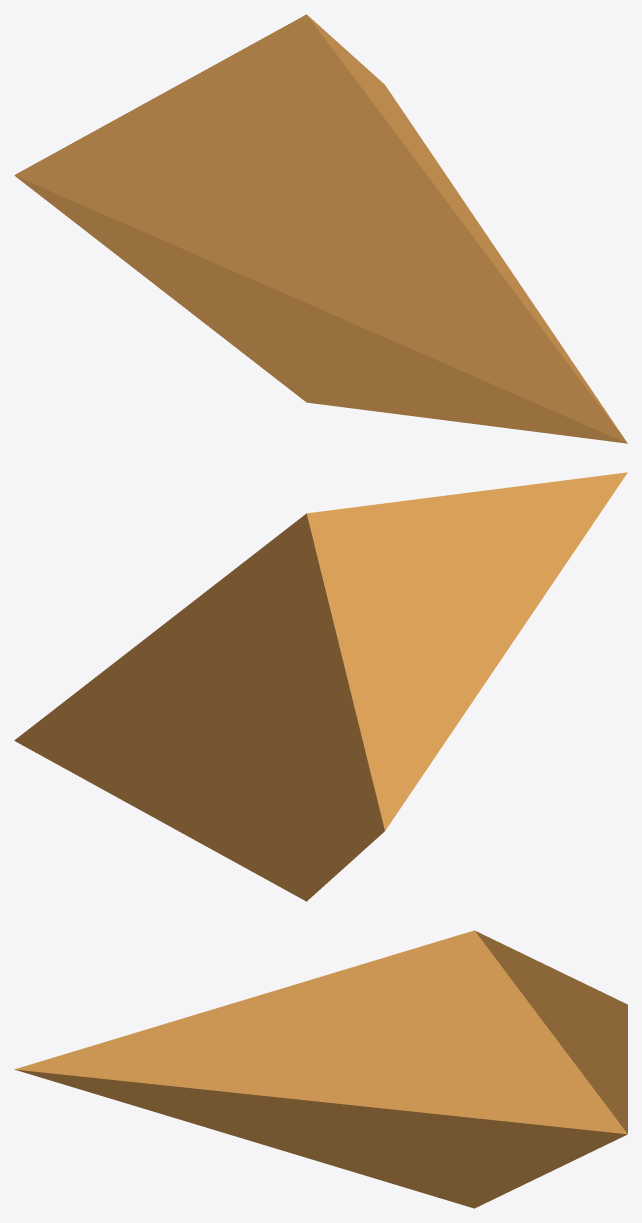
The model's file is BronzeArrowheadStack1.glb.
3 renders of one model, top to bottom at view 1: azimuth 30°, elevation 25°; view 2: azimuth 150°, elevation 25°; view 3: azimuth 270°, elevation 25°, orthographic. The views are drawn at different scales.
Parts seen in each view (by area): view 1: BronzeArrowheadStack1; view 2: BronzeArrowheadStack1; view 3: BronzeArrowheadStack1.
Part boxes in pixels (x1,y1,x2,y2): BronzeArrowheadStack1: [14, 14, 627, 443]; BronzeArrowheadStack1: [14, 472, 627, 901]; BronzeArrowheadStack1: [14, 930, 627, 1208].
Bounding box in the file's own units: 0.0506 × 0.0506 × 0.1011.
